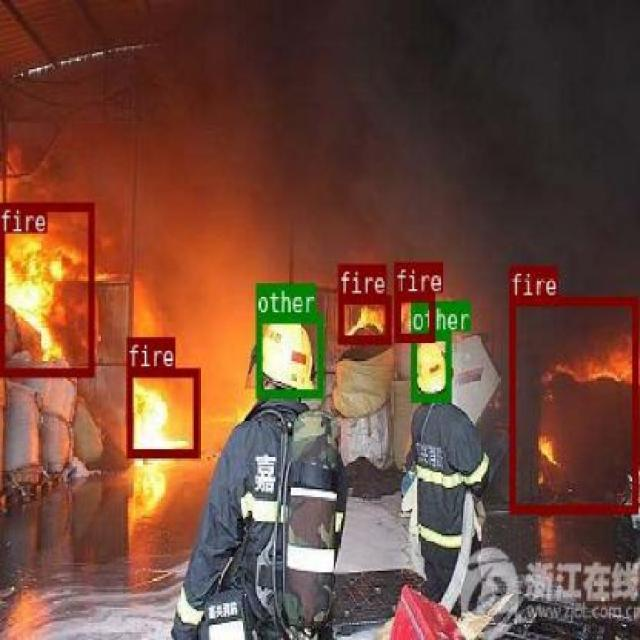Fire: (509, 296, 637, 512), (0, 202, 94, 376), (125, 367, 198, 456), (338, 294, 390, 342), (393, 292, 433, 342)
Smoke: (21, 0, 640, 288)
